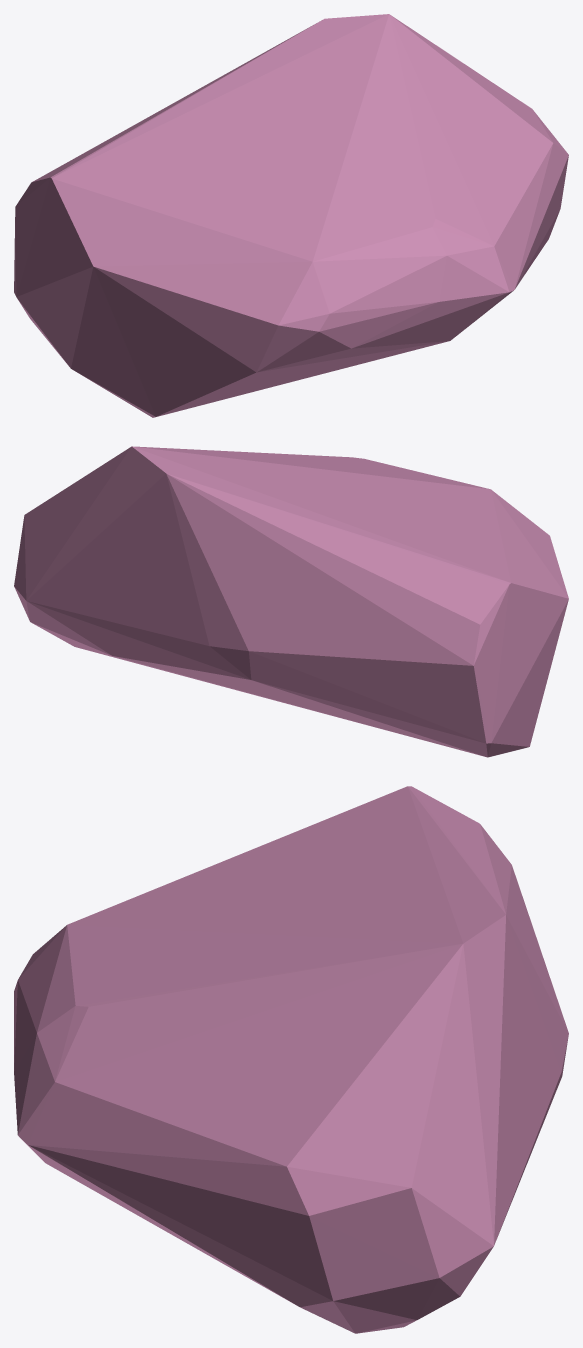
Rendered from electricalSystem_starter_d01.glb.
3 views of the same model, one above another, from view 1: azimuth 30°, elevation 25°; view 2: azimuth 150°, elevation 25°; view 3: azimuth 270°, elevation 25° (orthographic). The views are drawn at different scales.
Parts seen in each view (by area): view 1: geometry_0; view 2: geometry_0; view 3: geometry_0.
Part boxes in pixels (x1,y1,x2,y2): geometry_0: (14,14,568,417); geometry_0: (14,446,568,757); geometry_0: (14,786,568,1333).
Size of the model in its own units: 0.4792 by 0.2529 by 0.3323.
